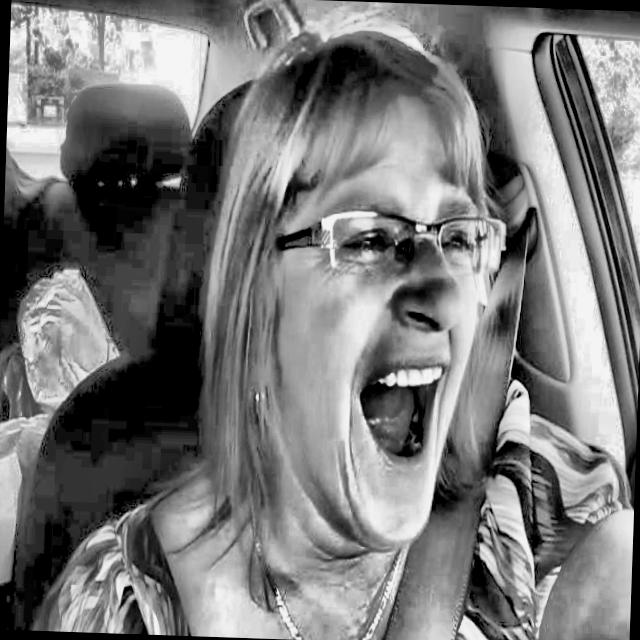open_eyes: (331, 223, 401, 272), (430, 221, 486, 272)
open_mouth: (343, 351, 452, 479)
